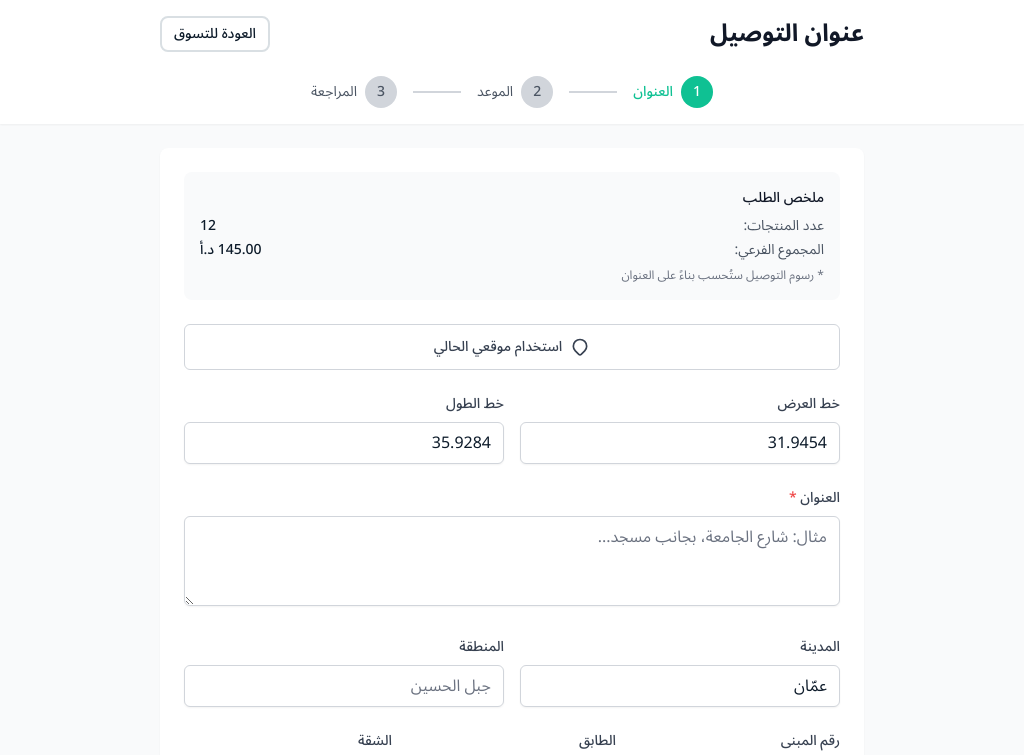
Scenario: CheckoutAddressPage › Geolocation › should handle geolocation error
Click the button "استخدام موقعي الحالي": {"x": 512, "y": 347} [184,324,840,370]
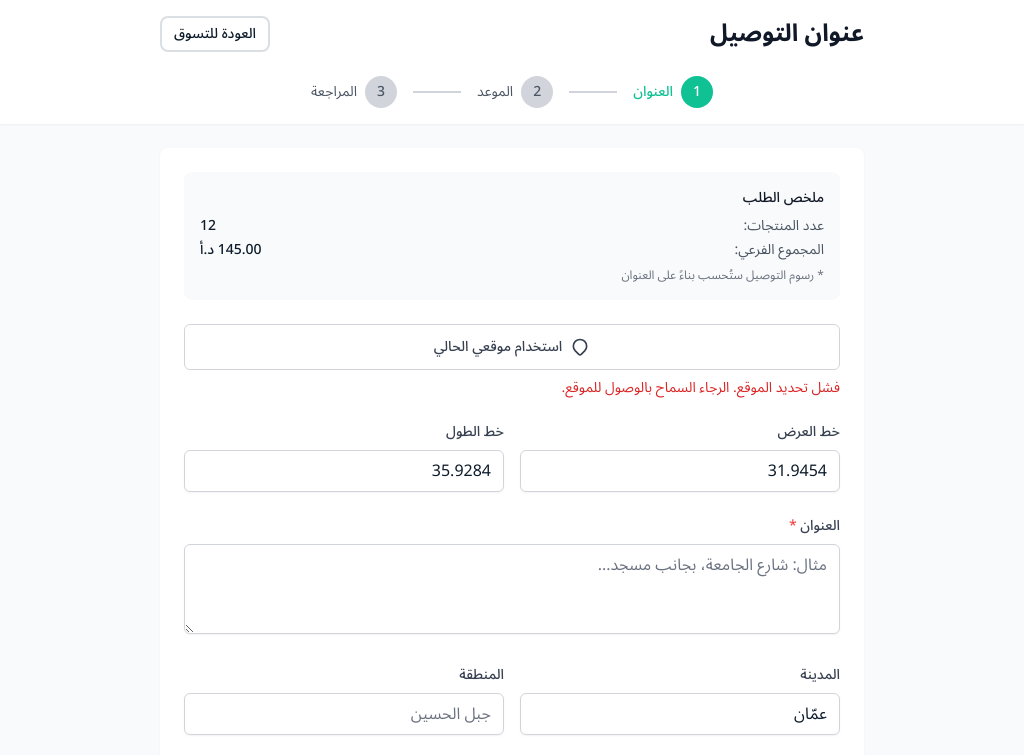
Now the text "فشل تحديد الموقع. الرجاء السماح بالوصول للموقع." is shown, box [561,373,840,402]
